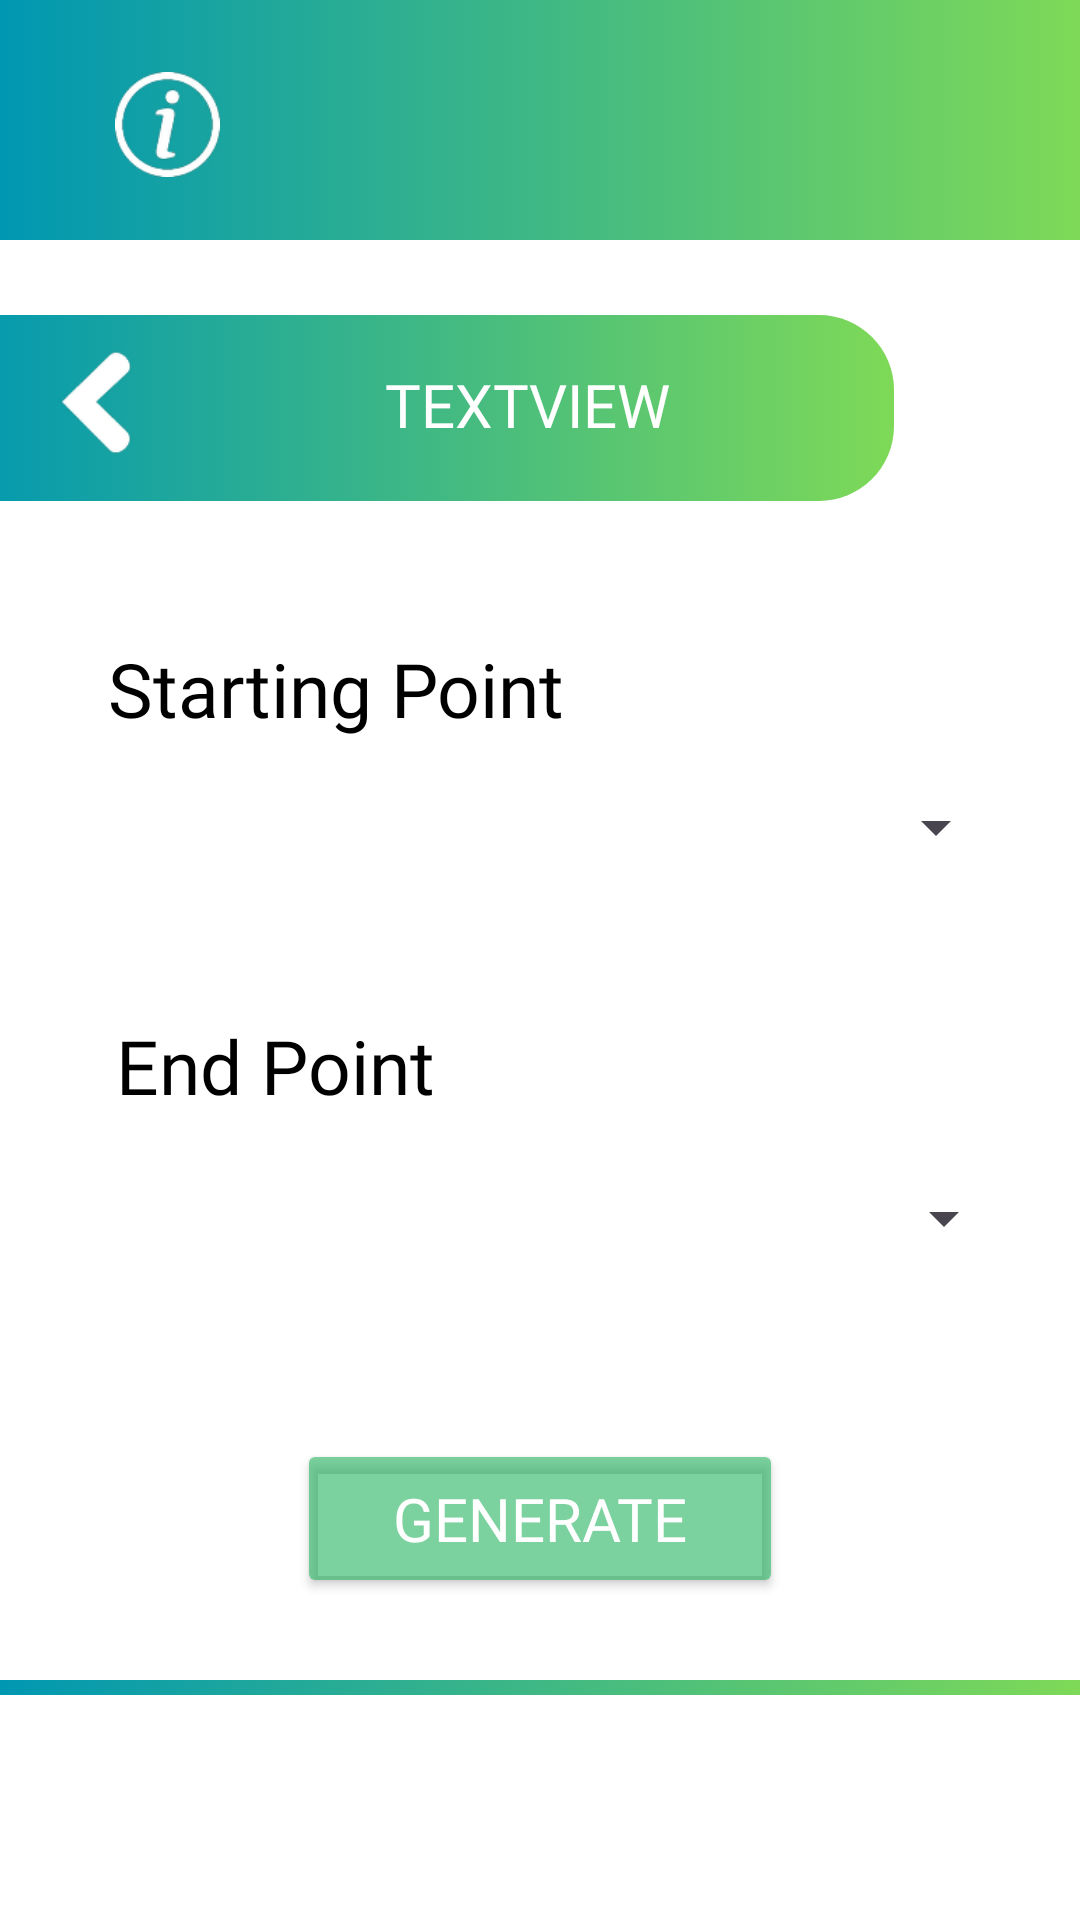

Point at icon controls on the screen. Image size 1080px×1920px, points as [x,y].
about: [167,124]
leftarrow: [106,402]
